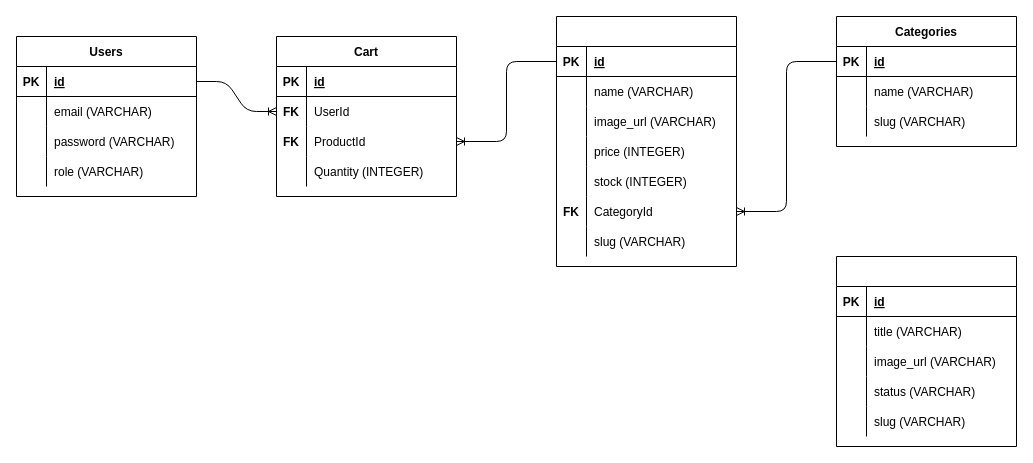
The diagram is 1033 pixels wide and 463 high, and some of its shapes have lost their labels. Each missing label, with the box of its shape:
Banners: (836, 256, 1016, 446)
Products: (556, 16, 736, 266)
